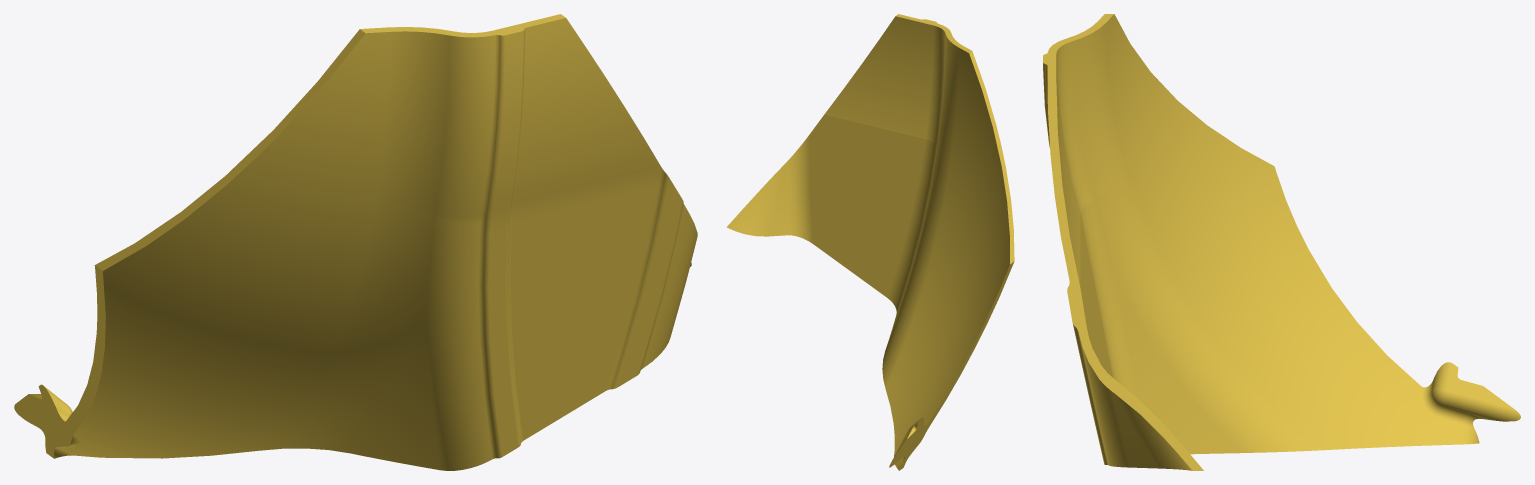
The picture shows the model from 3 angles, left to right: view 1: azimuth 30°, elevation 25°; view 2: azimuth 150°, elevation 25°; view 3: azimuth 270°, elevation 25°; orthographic projection. The views are drawn at different scales.
Parts seen in each view (by area): view 1: Body1; view 2: Body1; view 3: Body1.
Part boxes in pixels (<box>): Body1: <box>14,14,697,470</box>; Body1: <box>726,14,1014,470</box>; Body1: <box>1043,14,1520,470</box>.
Bounding box in the file's own units: 1183 × 1158 × 1072.
